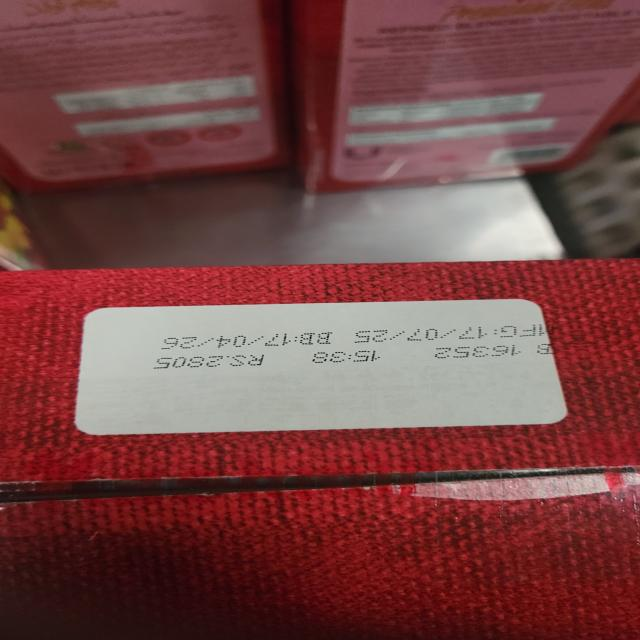BB: (161, 332, 337, 349)
Batch: (428, 344, 556, 359)
MFG: (352, 324, 546, 343)
RS: (150, 354, 266, 369)
TimeStamp: (311, 350, 384, 364)
